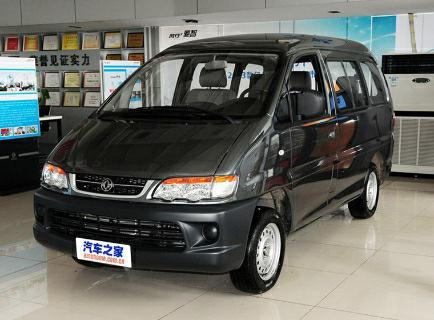东风风行-菱智: (26, 26, 407, 306)
